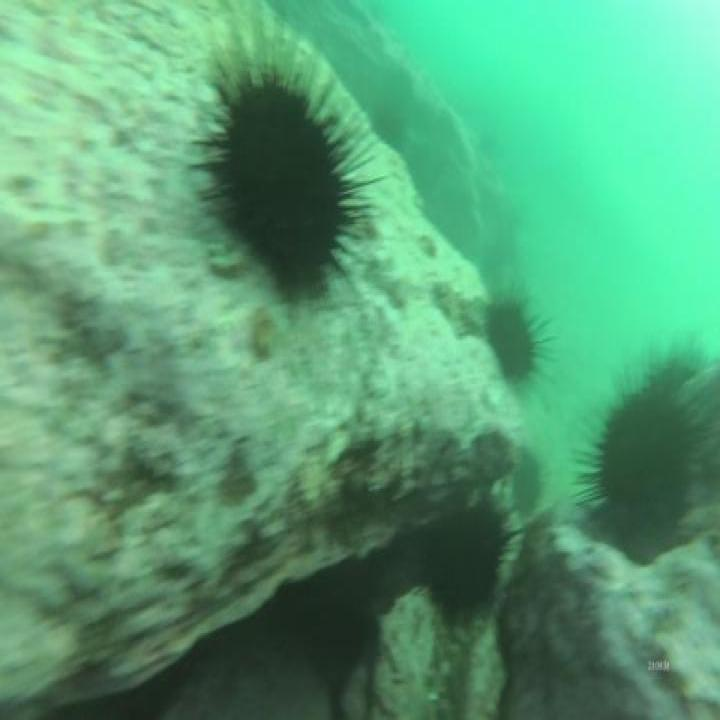echinus: (202, 64, 351, 306), (593, 372, 701, 567), (421, 489, 512, 640), (479, 294, 535, 390)
